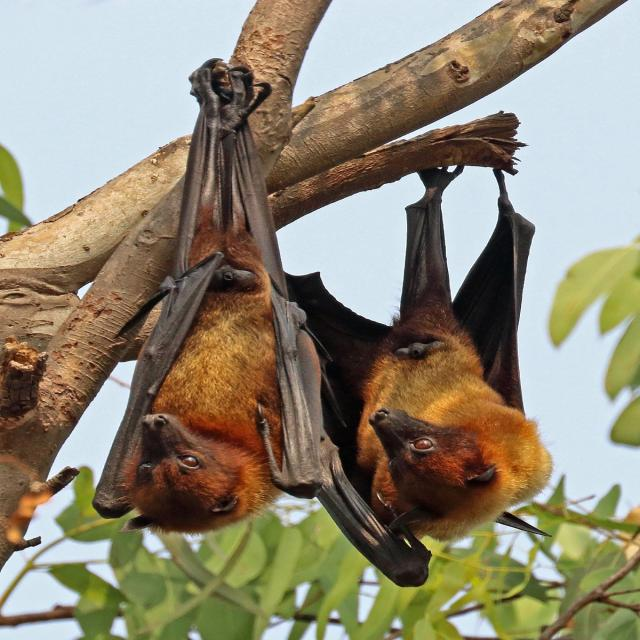Bat: (106, 74, 334, 545), (326, 156, 553, 578)
